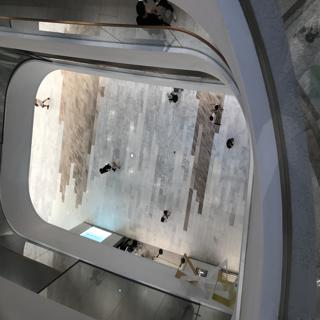person: (96, 156, 115, 181), (203, 107, 224, 128), (153, 202, 172, 225)
